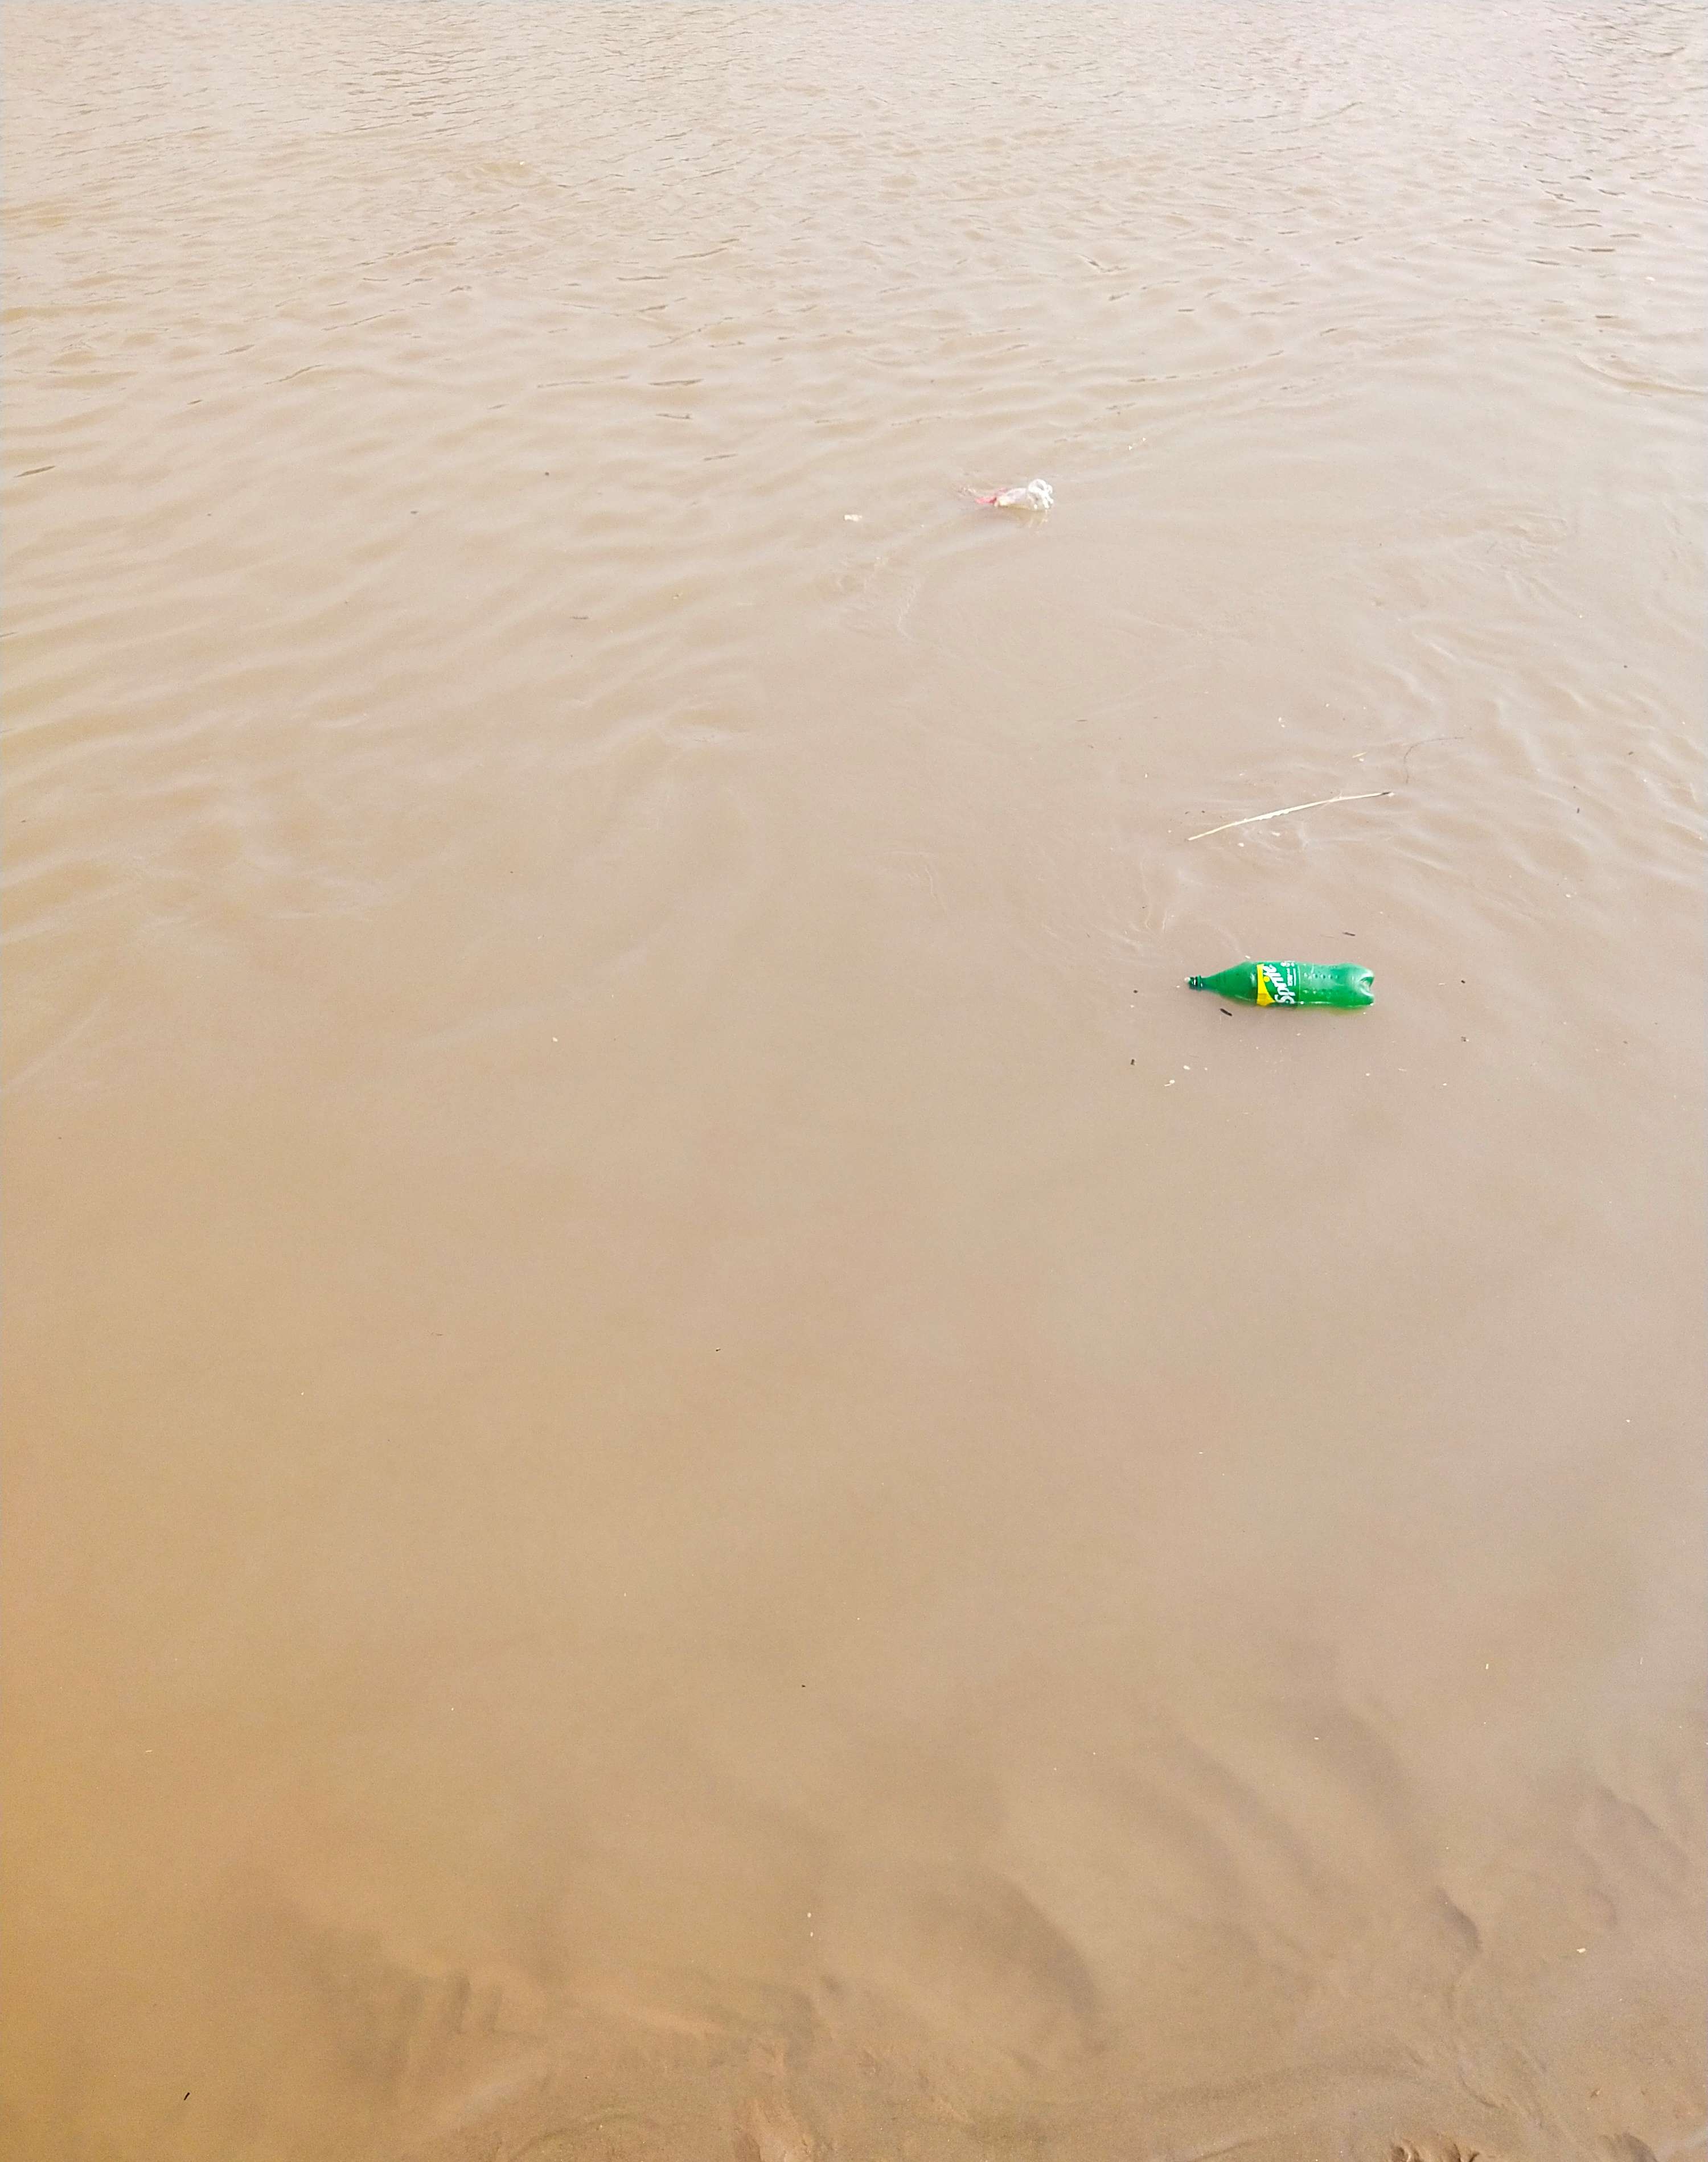Plastic Bottle: (1190, 960, 1374, 1009), (980, 479, 1053, 509)
